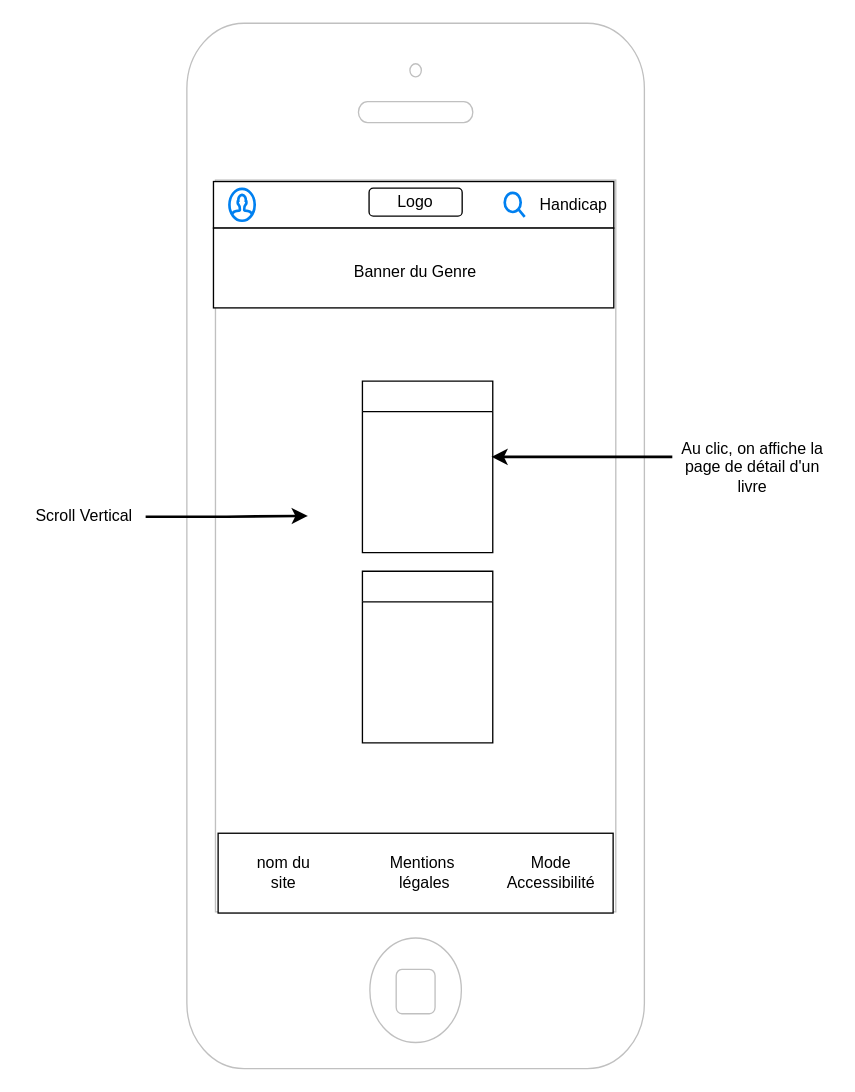
Image size: 855x1092. Some labels were removed from this diagram. Here are the shapes that lost their labels. From the top down, the centre of each, then its label:
the point at 427,466: Livre 1
the point at 427,656: Livre 2
